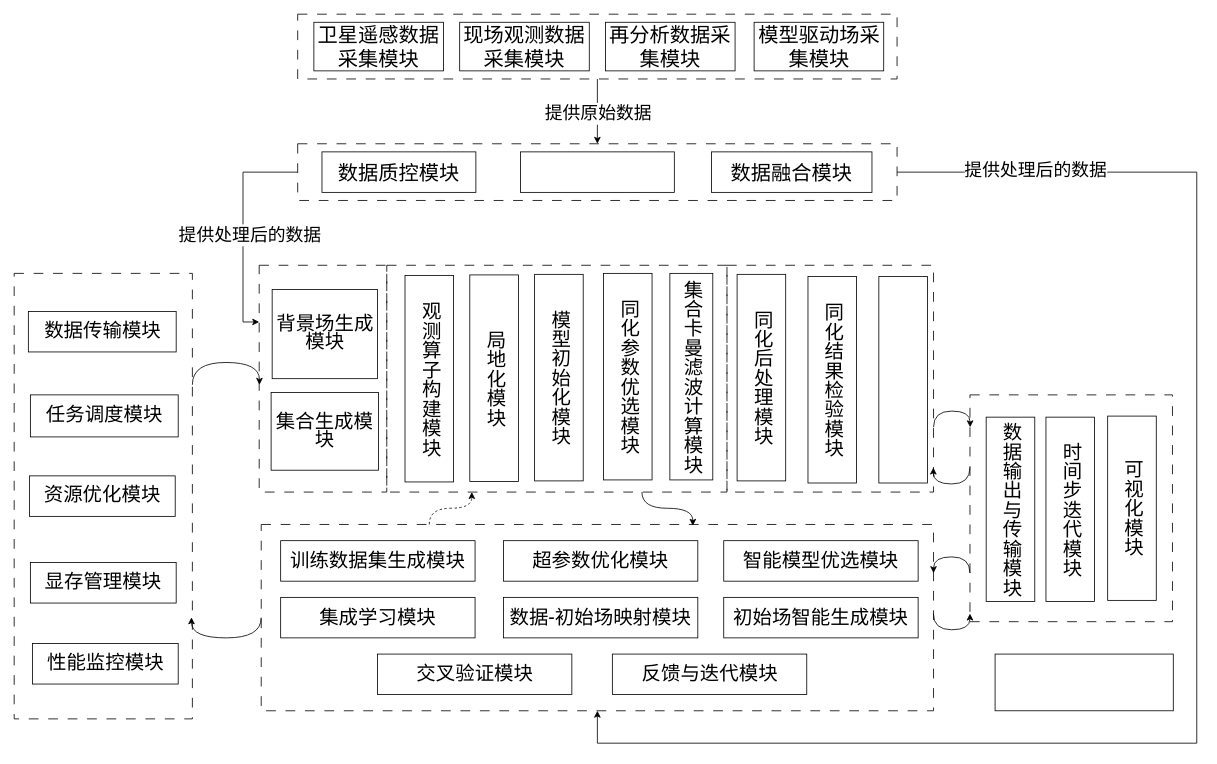
Image size: 1217x764. Some labels were removed from this diagram. Here are the shapes that lost their labels. From the top down, the centre of each, then its label:
At point (597, 171): "数据标准化模块".
At point (902, 379): "同化算法迭代模块".
At point (1083, 682): "日志管理模块".
